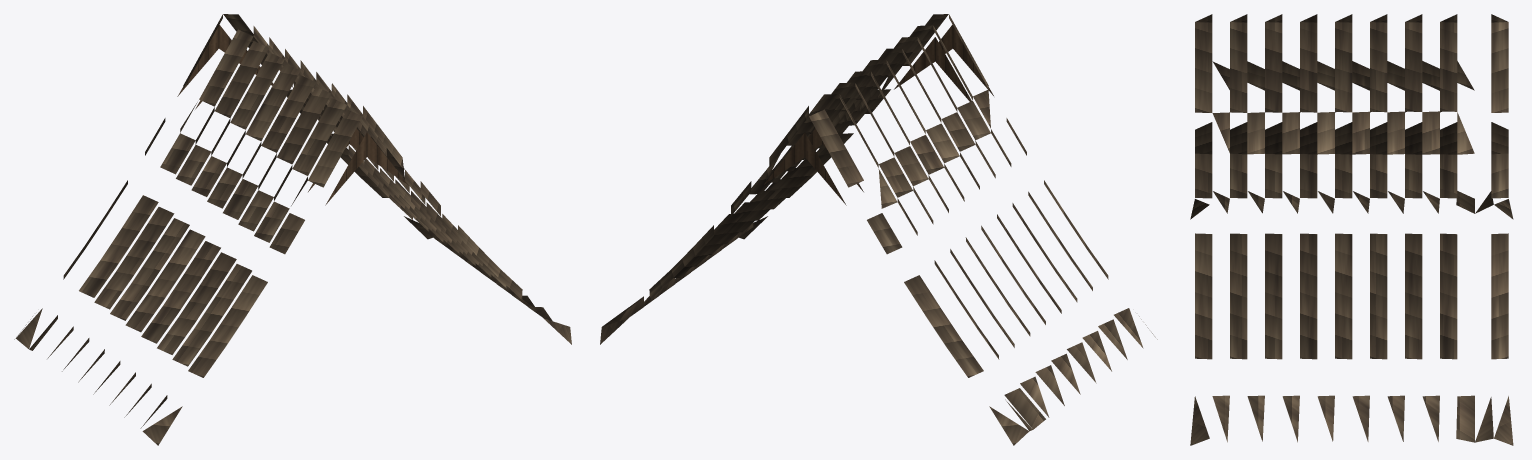
The model's file is Roof_Shingle_6x4_LOD2.gltf.
3 renders of one model, left to right at view 1: azimuth 30°, elevation 25°; view 2: azimuth 150°, elevation 25°; view 3: azimuth 270°, elevation 25°, orthographic. The views are drawn at different scales.
Parts seen in each view (by area): view 1: Roof_Shingle_6x4_LOD2; view 2: Roof_Shingle_6x4_LOD2; view 3: Roof_Shingle_6x4_LOD2.
Boxes of the visible parts, x1,y1,x2,y2 form: Roof_Shingle_6x4_LOD2: [14, 14, 571, 445]; Roof_Shingle_6x4_LOD2: [600, 14, 1157, 445]; Roof_Shingle_6x4_LOD2: [1190, 14, 1513, 445].
Size of the model in its own units: 8.25 by 5.17 by 4.95.
2 materials, 2 textured.
